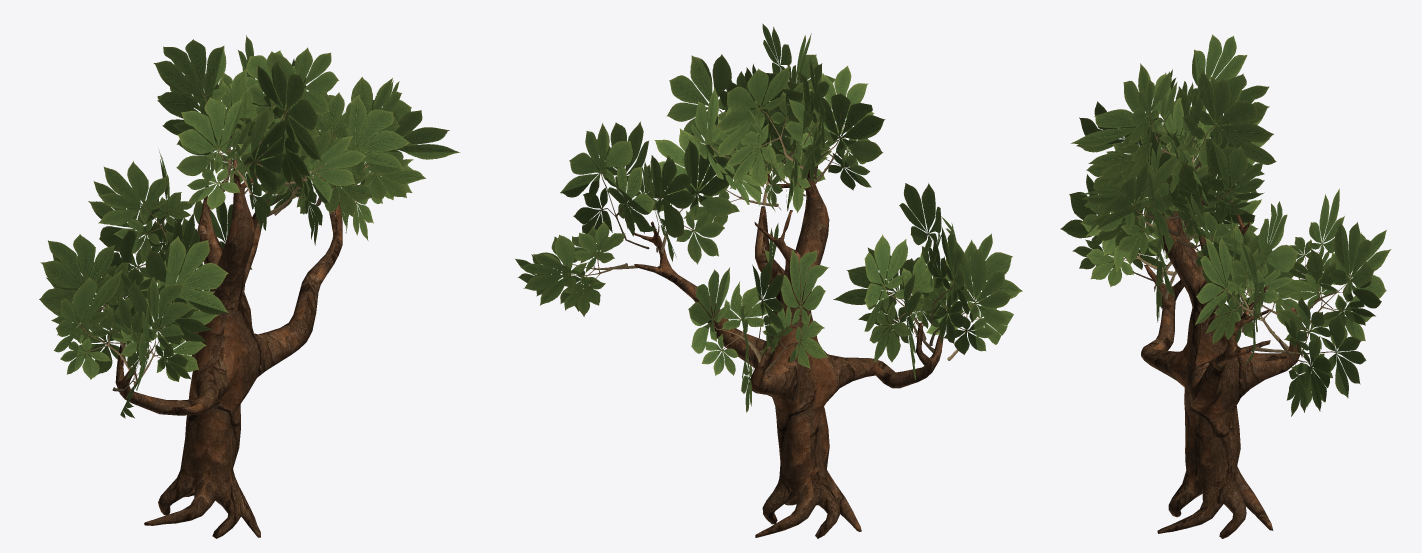
The model's file is Tree08.glb.
3 renders of one model, left to right at view 1: azimuth 30°, elevation 25°; view 2: azimuth 150°, elevation 25°; view 3: azimuth 270°, elevation 25°, orthographic. The views are drawn at different scales.
Parts seen in each view (by area): view 1: tree08.LOD0; view 2: tree08.LOD0; view 3: tree08.LOD0.
Boxes of the visible parts, x1,y1,x2,y2 form: tree08.LOD0: [39, 35, 460, 538]; tree08.LOD0: [515, 23, 1022, 538]; tree08.LOD0: [1060, 34, 1391, 538].
Size of what is drawn, in the model's own units: 8.53 by 8.73 by 5.66.
2 materials, 2 textured.
